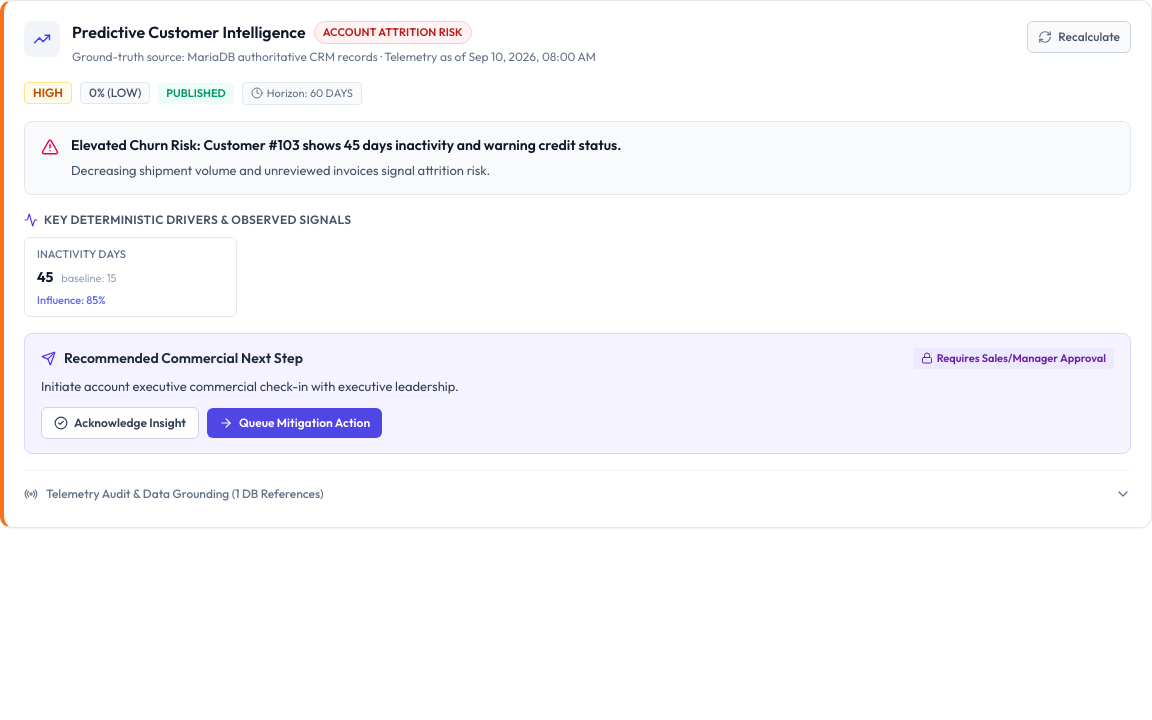
CustomerLeadPredictiveIntelligenceCard › handles queue mitigation action with Go Action System HITL tracking
Click the button "Queue Mitigation Action" at (295, 423), box [207,408,382,438]
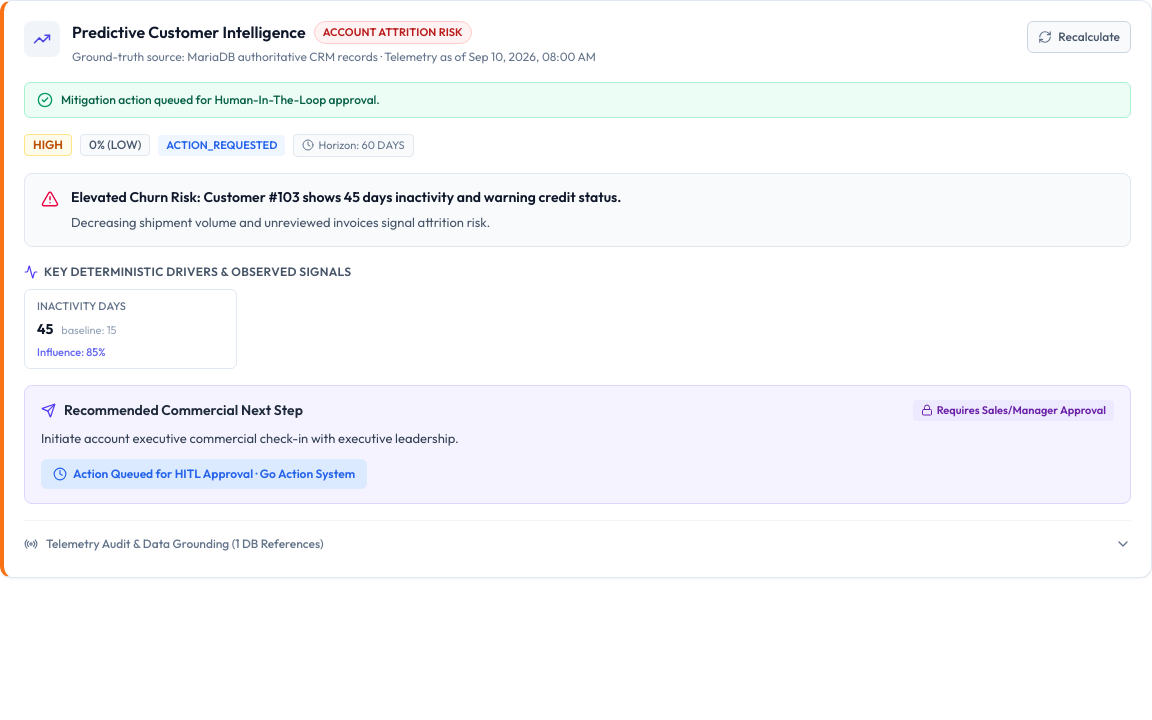
Expected: the text "Mitigation action queued for Human-In-The-Loop approval." is shown, [61,90,380,108]
